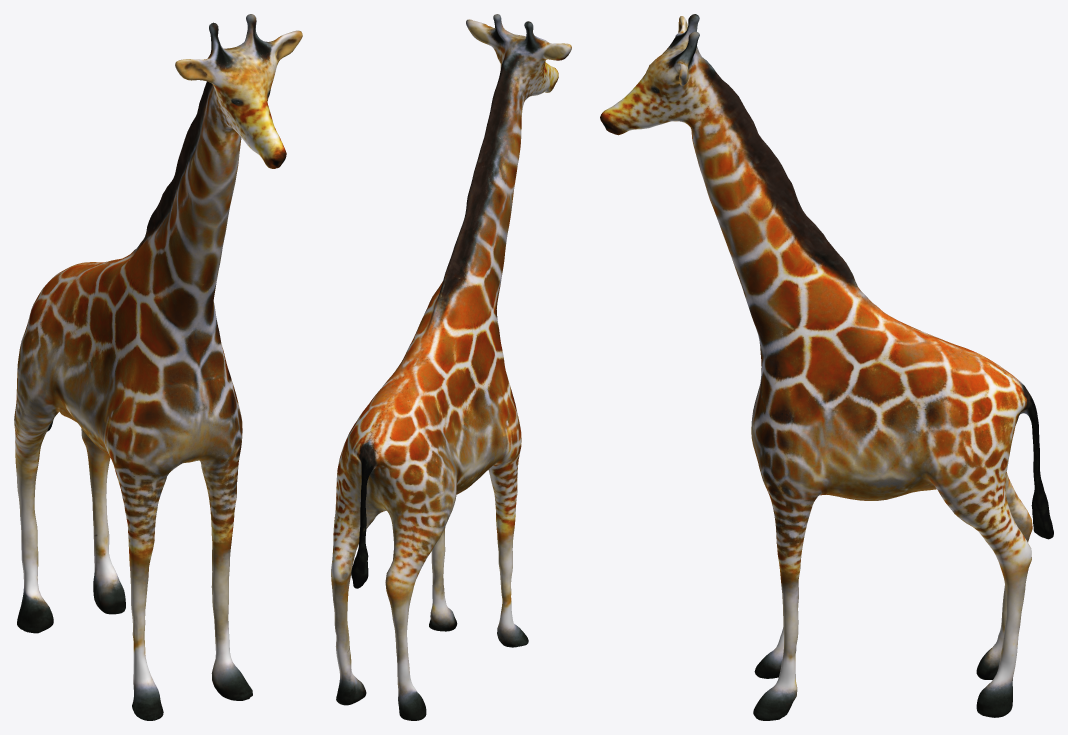
Rendered from Giraffe.fbx.
3 renders of one model, left to right at view 1: azimuth 30°, elevation 25°; view 2: azimuth 150°, elevation 25°; view 3: azimuth 270°, elevation 25°, orthographic. The views are drawn at different scales.
Visible parts, largest first — view 1: Giraffe_Quad; view 2: Giraffe_Quad; view 3: Giraffe_Quad.
Boxes of the visible parts, x1,y1,x2,y2 form: Giraffe_Quad: (14, 14, 302, 720); Giraffe_Quad: (331, 14, 571, 720); Giraffe_Quad: (600, 14, 1053, 720).
Size of the model in its own units: 103 by 537 by 328.
